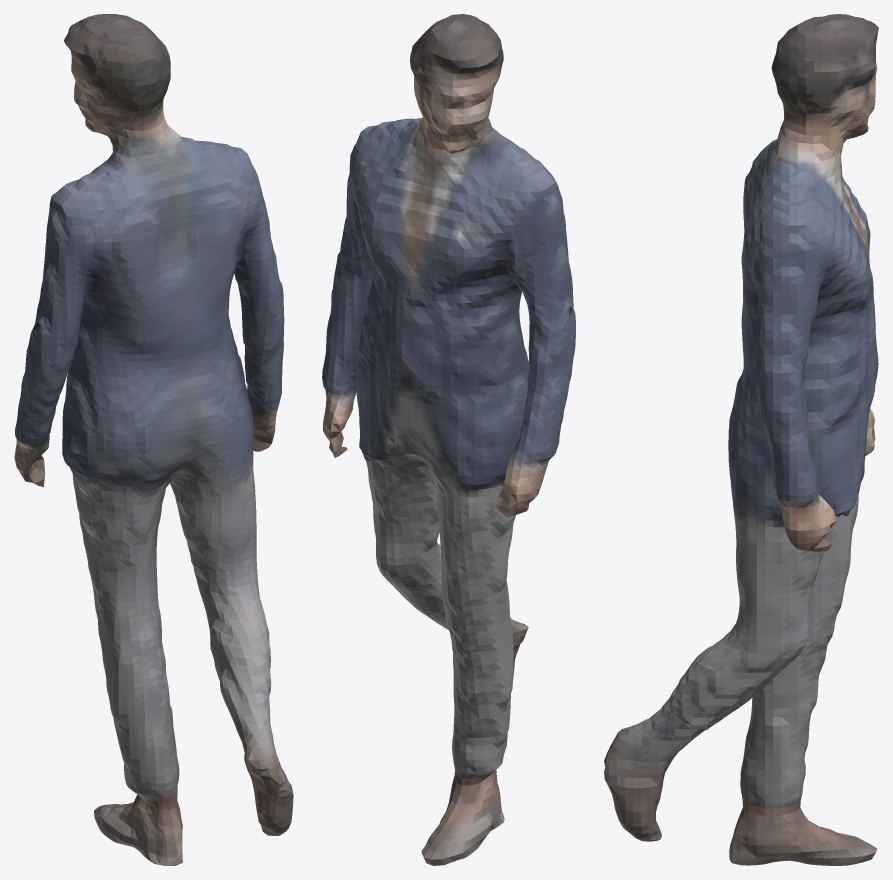
File: result_tmph1xkxb8g.glb
3 views of the same model, side by side, from view 1: azimuth 30°, elevation 25°; view 2: azimuth 150°, elevation 25°; view 3: azimuth 270°, elevation 25° (orthographic). The views are drawn at different scales.
Visible parts, largest first — view 1: result_tmph1xkxb8g.obj_VNQEXFZPNURA; view 2: result_tmph1xkxb8g.obj_VNQEXFZPNURA; view 3: result_tmph1xkxb8g.obj_VNQEXFZPNURA.
Part boxes in pixels (x1,y1,x2,y2): result_tmph1xkxb8g.obj_VNQEXFZPNURA: (14,14,293,865); result_tmph1xkxb8g.obj_VNQEXFZPNURA: (322,14,575,865); result_tmph1xkxb8g.obj_VNQEXFZPNURA: (604,14,878,865).
Size of the model in its own units: 0.5484 by 1.76 by 0.5237.
